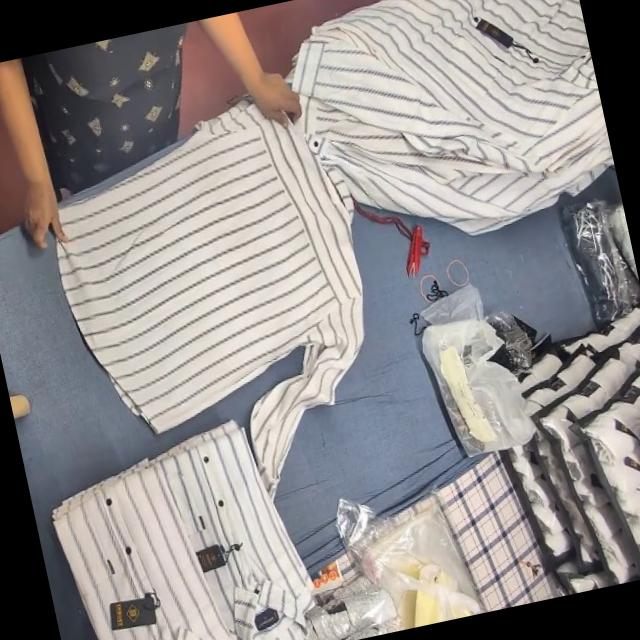new-garment: (58, 101, 362, 485)
